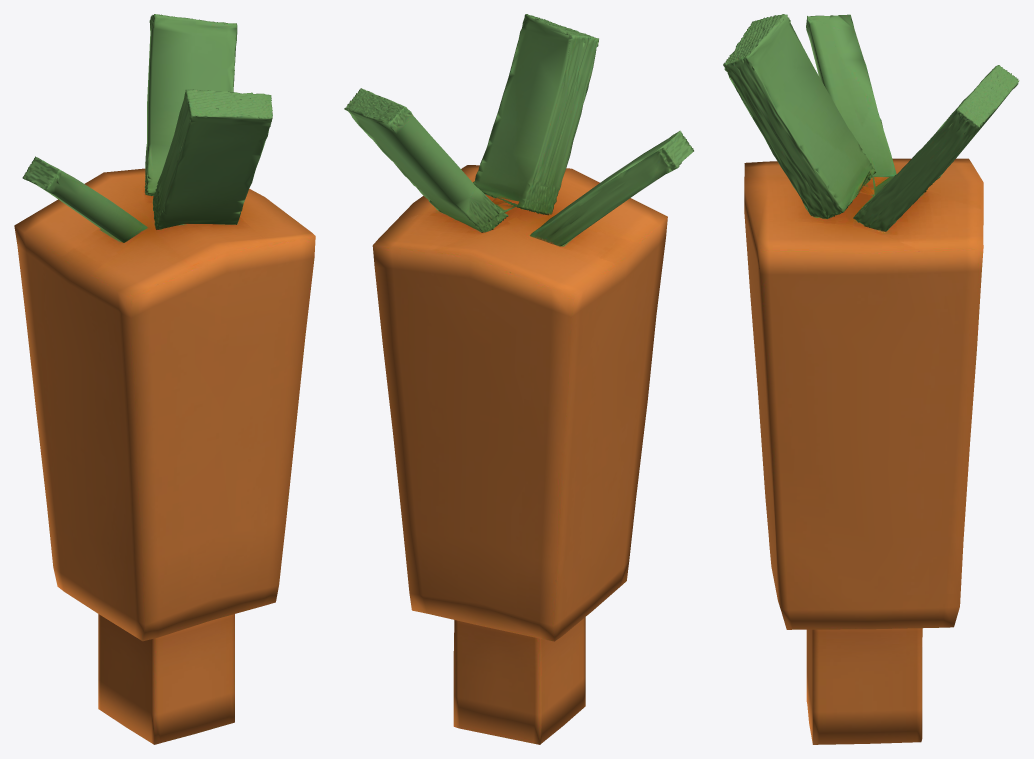
The picture shows the model from 3 angles, left to right: view 1: azimuth 30°, elevation 25°; view 2: azimuth 150°, elevation 25°; view 3: azimuth 270°, elevation 25°; orthographic projection. The views are drawn at different scales.
Visible parts, largest first — view 1: tripo_node_50a45a31-95bc-4a5b-bf41-a5210cb52c1b; view 2: tripo_node_50a45a31-95bc-4a5b-bf41-a5210cb52c1b; view 3: tripo_node_50a45a31-95bc-4a5b-bf41-a5210cb52c1b.
Boxes of the visible parts, box(x1,y1,x2,y2) form: tripo_node_50a45a31-95bc-4a5b-bf41-a5210cb52c1b: box(14, 14, 315, 744); tripo_node_50a45a31-95bc-4a5b-bf41-a5210cb52c1b: box(344, 14, 693, 744); tripo_node_50a45a31-95bc-4a5b-bf41-a5210cb52c1b: box(723, 14, 1019, 744).
Bounding box in the file's own units: 0.1082 × 0.25 × 0.0962.
Materials: 1 (1 with a texture image).
